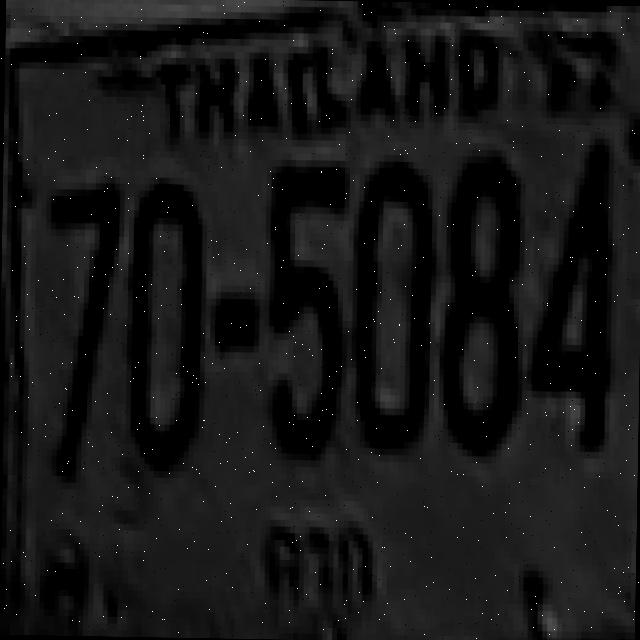0: (350, 157, 433, 445), (127, 177, 205, 465)
4: (526, 137, 608, 445)
5: (264, 158, 347, 454)
7: (44, 178, 122, 466), (45, 178, 122, 374)
8: (438, 152, 516, 446)
Tak: (251, 503, 383, 612)
